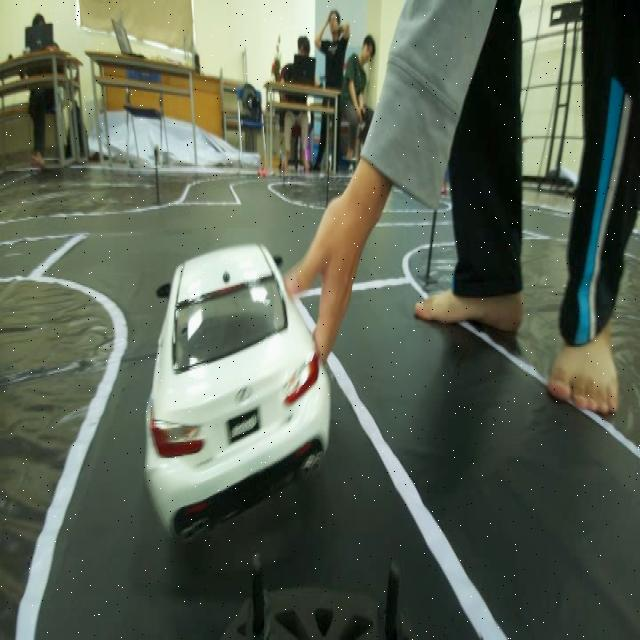car: (150, 262, 323, 500)
